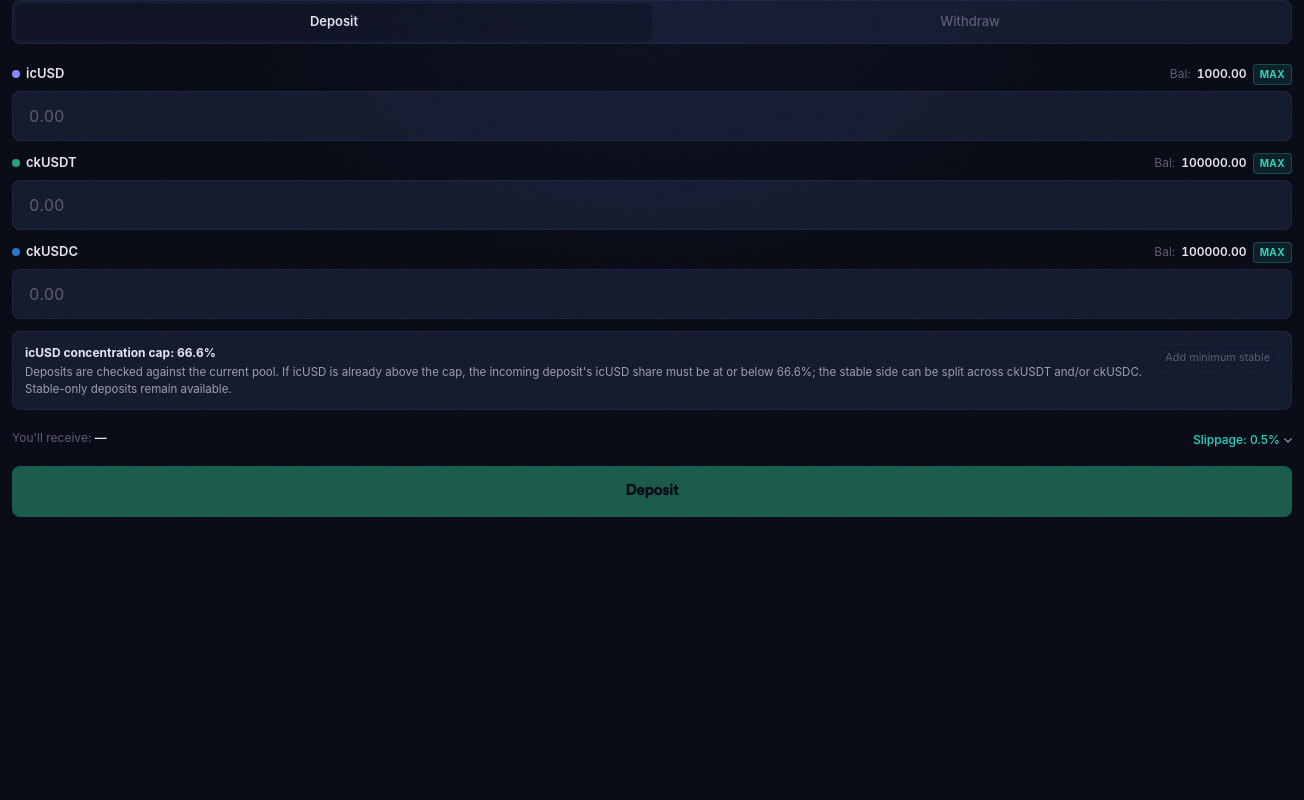
LiquidityInterface deposit concentration UX › shows an update policy rejection and preserves the entered deposit amounts
Step 1. Type "1" into the 2nd number field with class "amount-input" → [652, 204], box [12,180,1292,230]
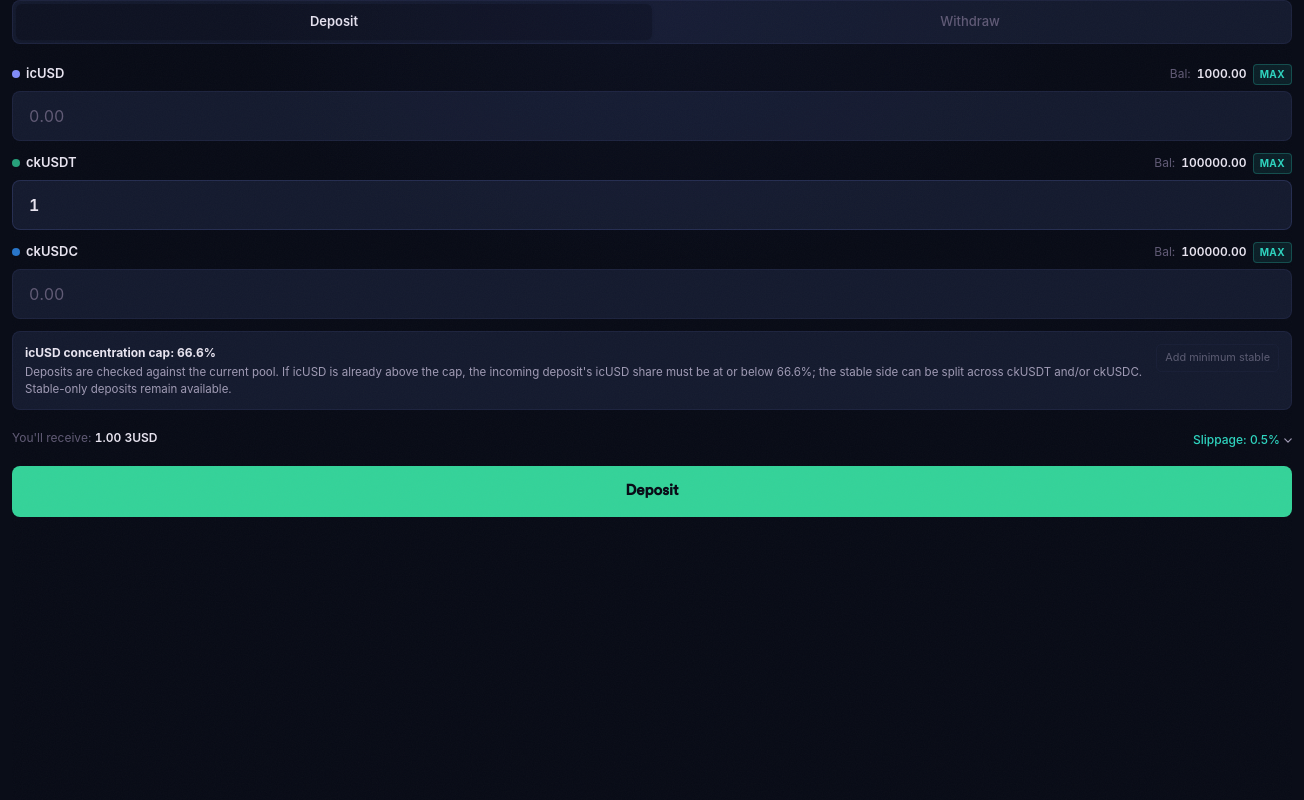
Step 2. Click the button with class "submit-btn" → [652, 492], box [12,466,1292,517]
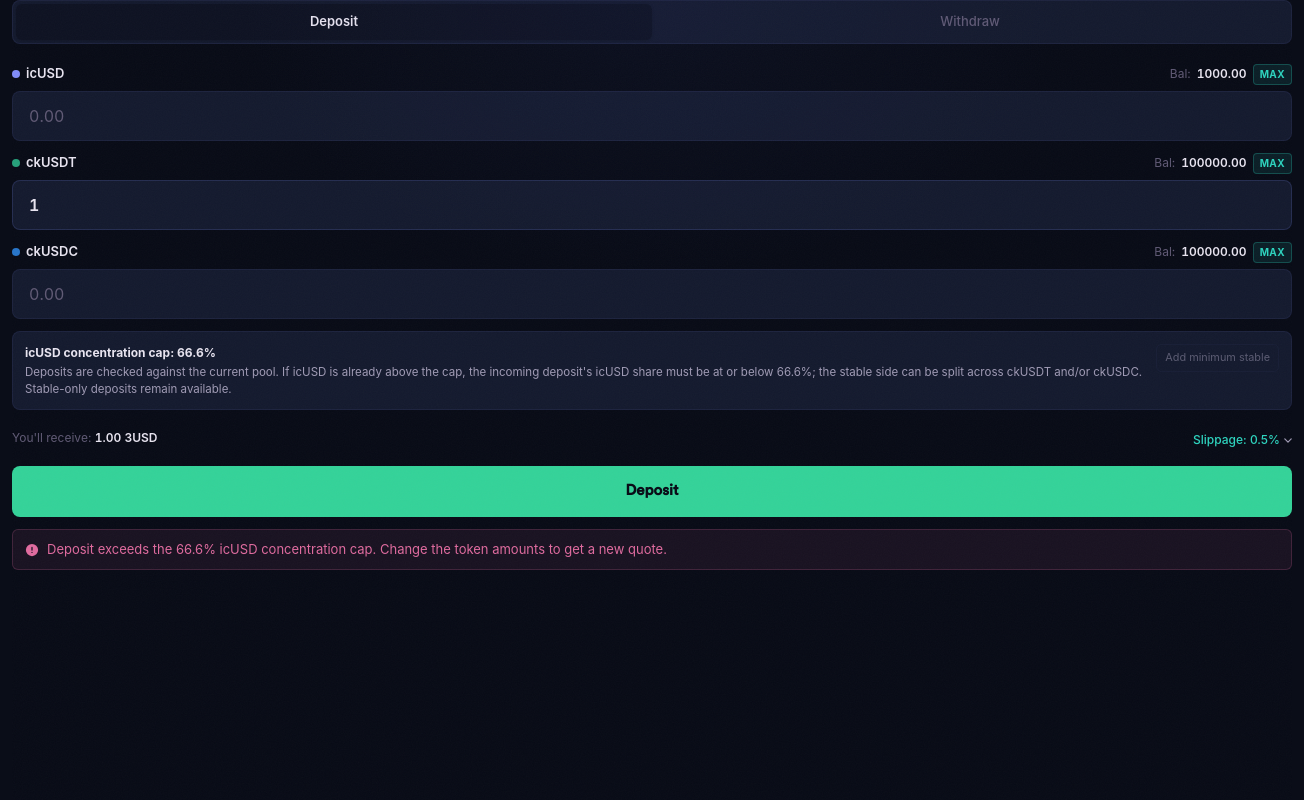
Expected: the number field with class "amount-input" below "1000.00" is empty, [12,90,1292,140]
Expected: the text "Deposit exceeds the 66.6% icUSD concentration cap" is shown, [47,541,667,557]
